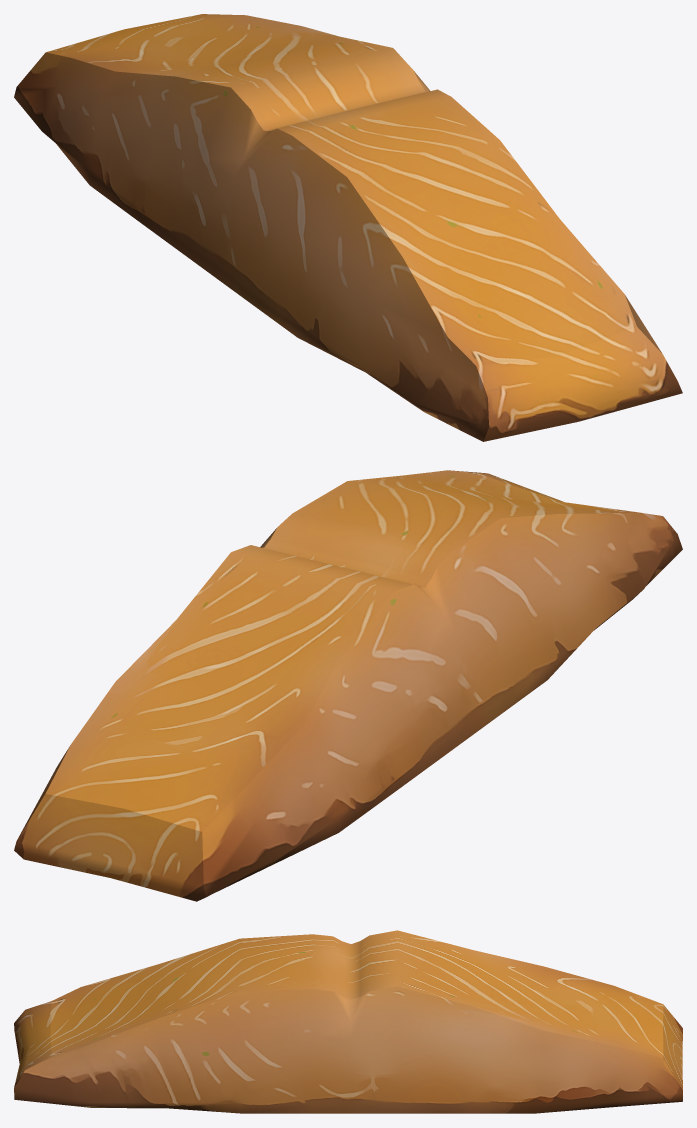
The model's file is salmon.obj.
3 renders of one model, top to bottom at view 1: azimuth 30°, elevation 25°; view 2: azimuth 150°, elevation 25°; view 3: azimuth 270°, elevation 25°, orthographic. The views are drawn at different scales.
Parts seen in each view (by area): view 1: pCube4; view 2: pCube4; view 3: pCube4.
Part boxes in pixels (x1,y1,x2,y2): pCube4: (14,14,682,441); pCube4: (14,470,682,901); pCube4: (14,930,682,1113).
Size of the model in its own units: 16.26 by 10.02 by 53.38.
Materials: 1 (1 with a texture image).
